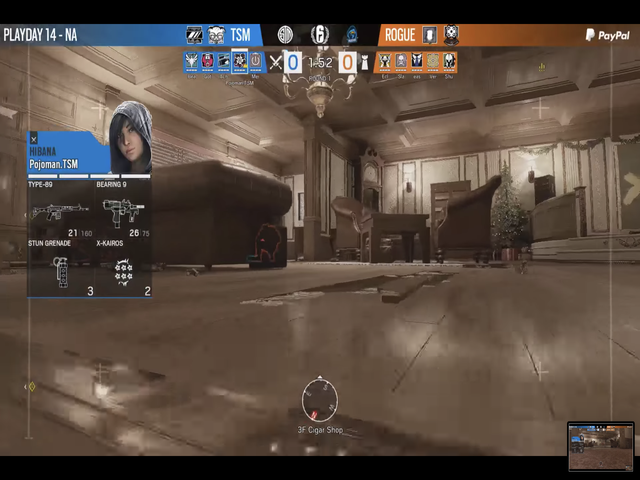0_blue: (283, 50, 301, 73)
